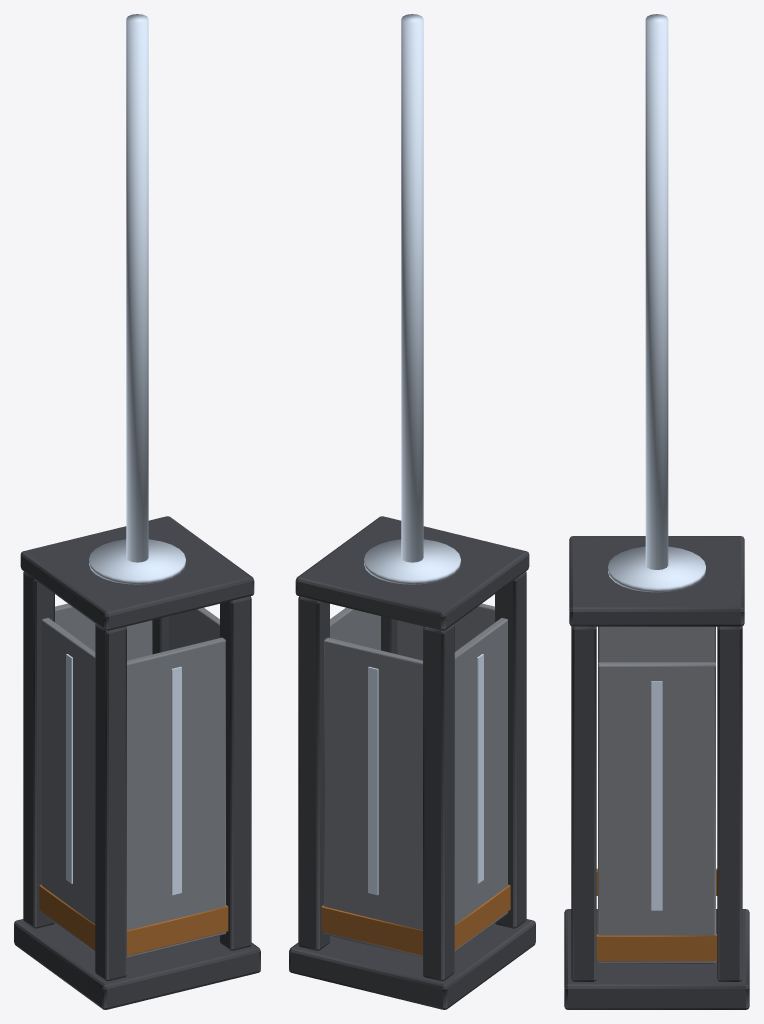
The model's file is SM_SB_Kit_ReactorPylon.fbx.
The picture shows the model from 3 angles, left to right: view 1: azimuth 30°, elevation 25°; view 2: azimuth 150°, elevation 25°; view 3: azimuth 270°, elevation 25°; orthographic projection.
Visible parts, largest first — view 1: SM_SB_Kit_ReactorPylon; view 2: SM_SB_Kit_ReactorPylon; view 3: SM_SB_Kit_ReactorPylon.
Boxes of the visible parts, box(x1,y1,x2,y2) form: SM_SB_Kit_ReactorPylon: box(14, 14, 260, 1009); SM_SB_Kit_ReactorPylon: box(289, 14, 535, 1009); SM_SB_Kit_ReactorPylon: box(564, 14, 749, 1009).
Bounding box in the file's own units: 264 × 264 × 1500.
